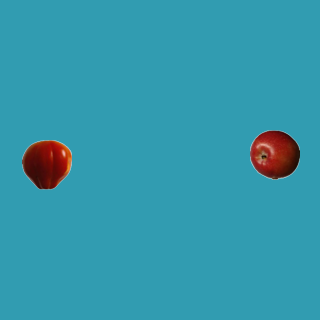Apple Braeburn: (249, 129, 299, 179)
Tomato 1: (21, 139, 71, 189)
